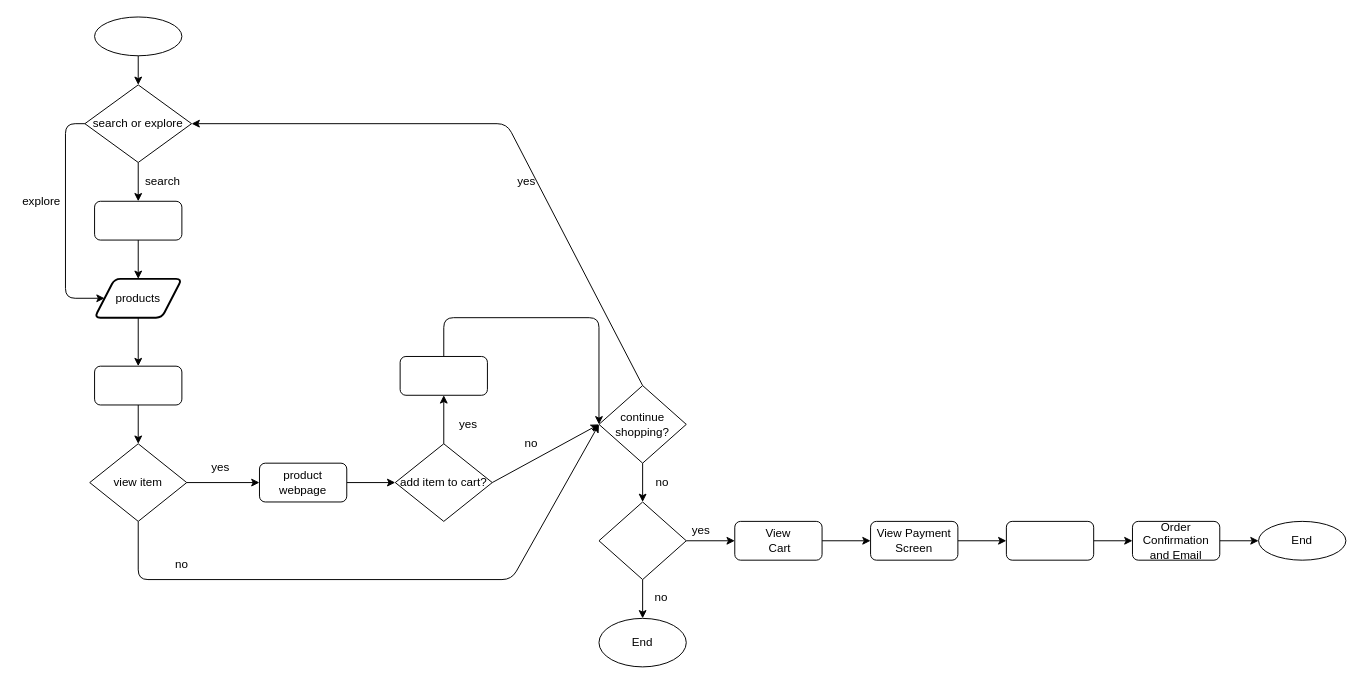
The diagram is 1363 pixels wide and 684 high, and some of its shapes have lost their labels. The centre of each missing label's shape, as x and y in pixels:
add to cart page: (x=443, y=375)
checkout?: (x=642, y=540)
enter product input: (x=138, y=220)
Payment Information: (x=1049, y=540)
show products page: (x=138, y=385)
start: (x=138, y=36)
